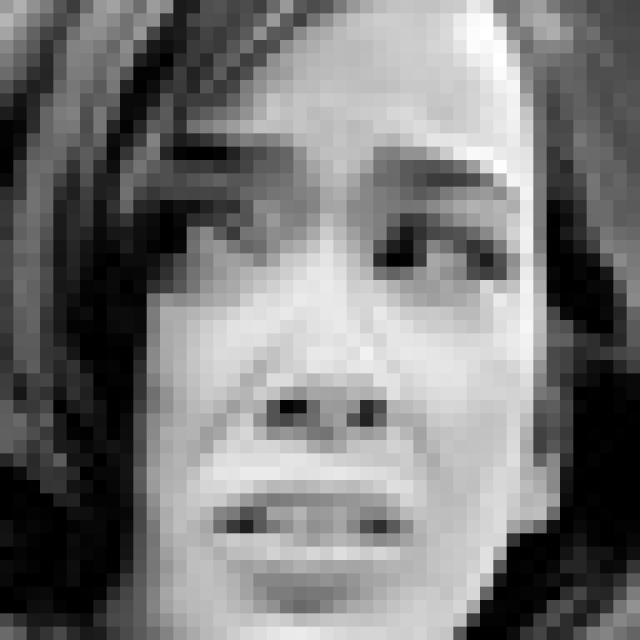disgust: (142, 134, 521, 607)
